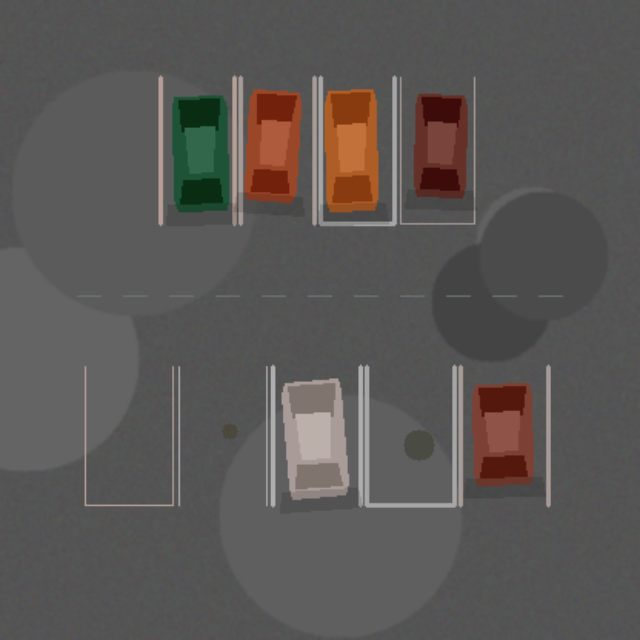space-empty: (178, 366, 266, 505), (366, 366, 454, 505), (85, 366, 172, 505)
space-occupied: (272, 366, 360, 505), (460, 366, 548, 505), (160, 77, 234, 223), (240, 77, 314, 223), (320, 77, 394, 223), (400, 77, 474, 223)
